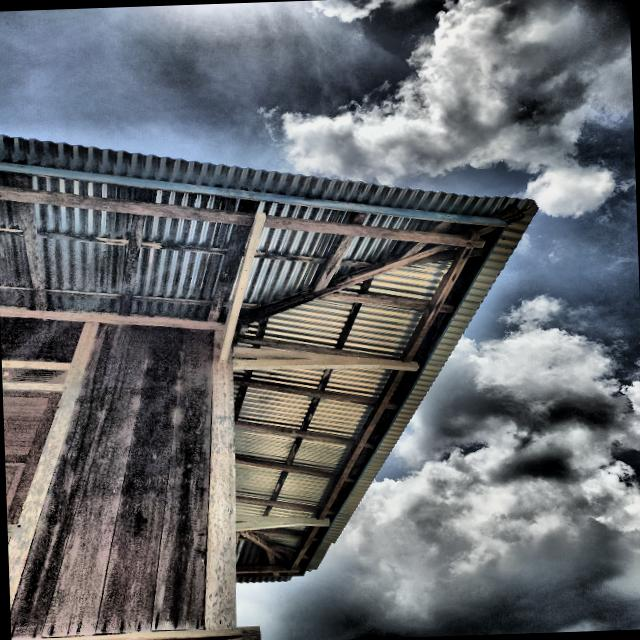roof: (0, 135, 540, 583)
wall: (0, 316, 214, 639)
window: (2, 388, 65, 523)
